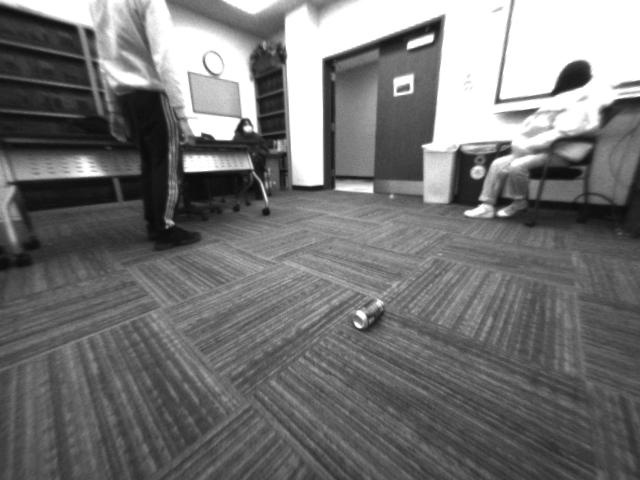can: (346, 295, 389, 329)
